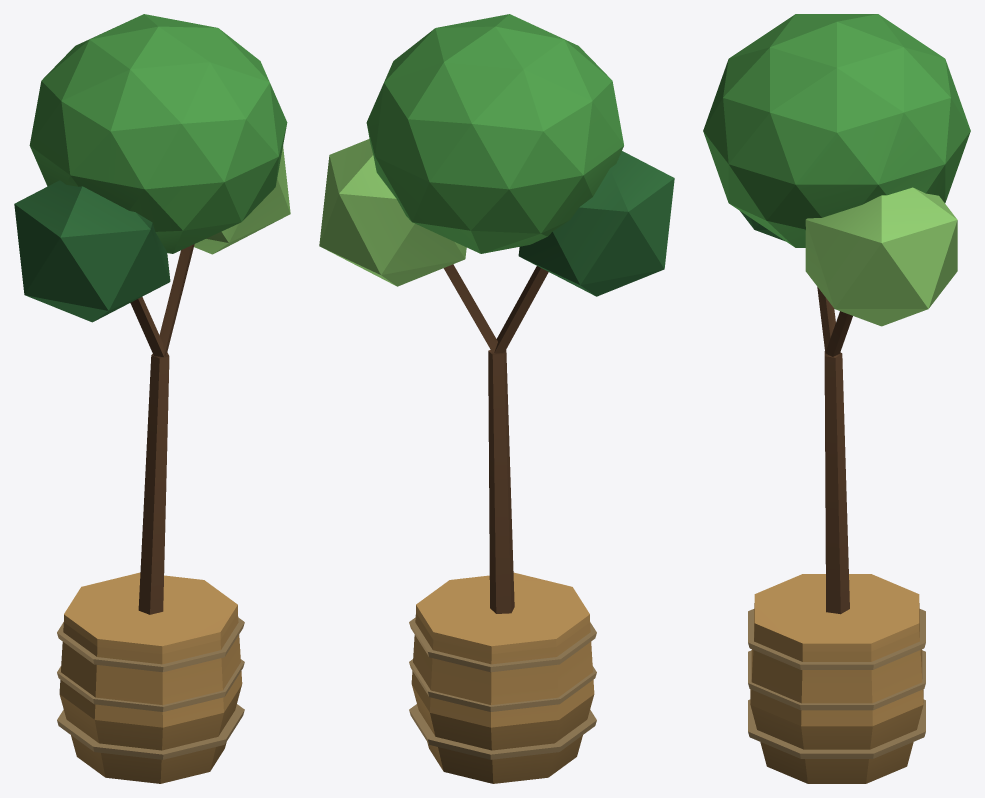
Rendered from plant_ficus_01.glb.
3 views of the same model, side by side, from view 1: azimuth 30°, elevation 25°; view 2: azimuth 150°, elevation 25°; view 3: azimuth 270°, elevation 25° (orthographic).
Parts seen in each view (by area): view 1: plant_ficus_01_mesh; view 2: plant_ficus_01_mesh; view 3: plant_ficus_01_mesh.
Part boxes in pixels (x1,y1,x2,y2): plant_ficus_01_mesh: (14, 14, 290, 783); plant_ficus_01_mesh: (319, 14, 674, 783); plant_ficus_01_mesh: (703, 14, 970, 783).
Bounding box in the file's own units: 0.7777 × 1.82 × 0.5999.
Materials: 1 (1 with a texture image).
